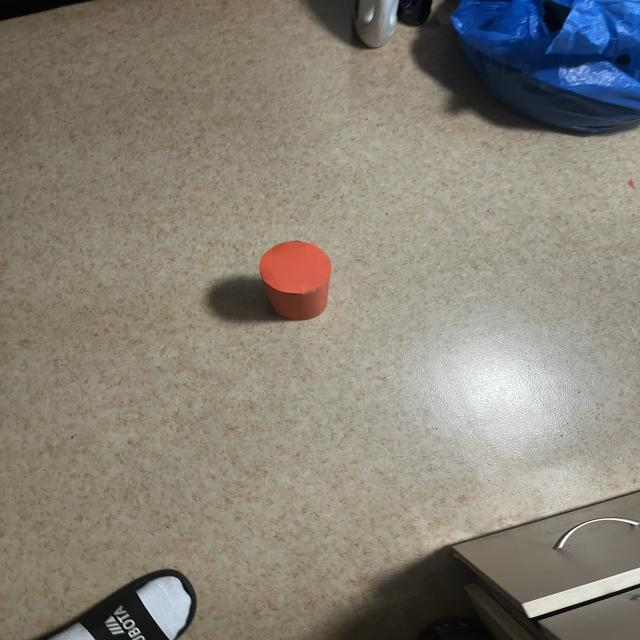przeszkoda: (259, 241, 331, 320)
